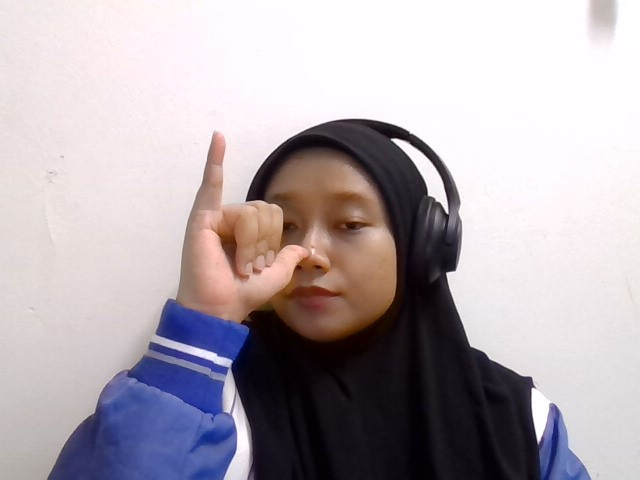BadakSumbu: (179, 131, 344, 312)
